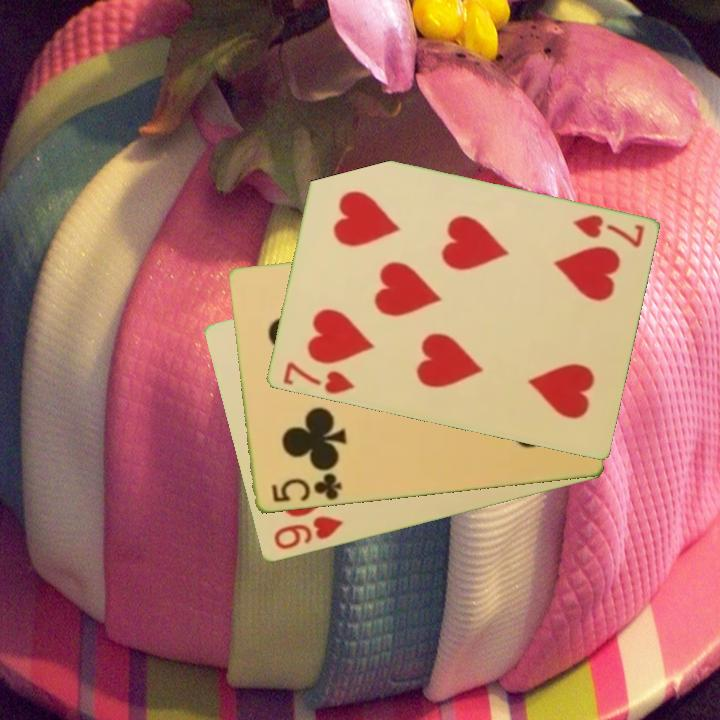5c: (267, 470, 344, 506)
7h: (568, 211, 647, 251), (279, 359, 357, 398)
9h: (270, 513, 345, 553)
